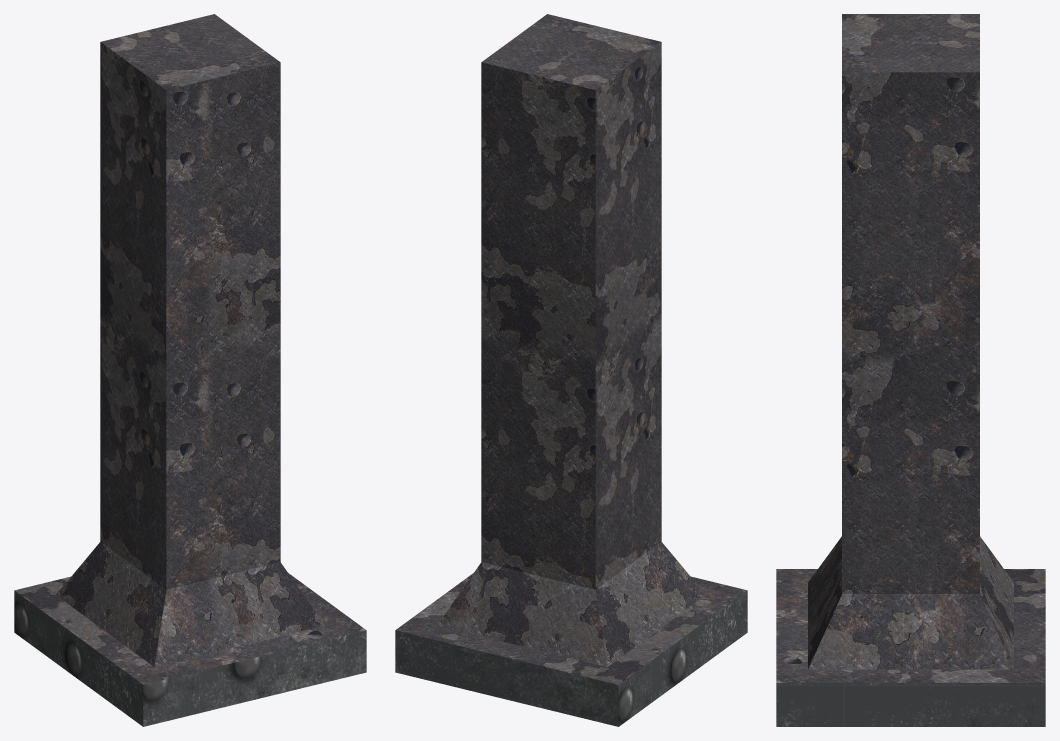
File: hood.FBX
3 views of the same model, side by side, from view 1: azimuth 30°, elevation 25°; view 2: azimuth 150°, elevation 25°; view 3: azimuth 270°, elevation 25° (orthographic). The views are drawn at different scales.
Visible parts, largest first — view 1: Box001; view 2: Box001; view 3: Box001.
Part boxes in pixels (x1,y1,x2,y2): Box001: (14,14,366,726); Box001: (395,14,747,726); Box001: (776,14,1045,726).
Size of the model in its own units: 80 by 80 by 205.
Materials: 2 (2 with a texture image).
